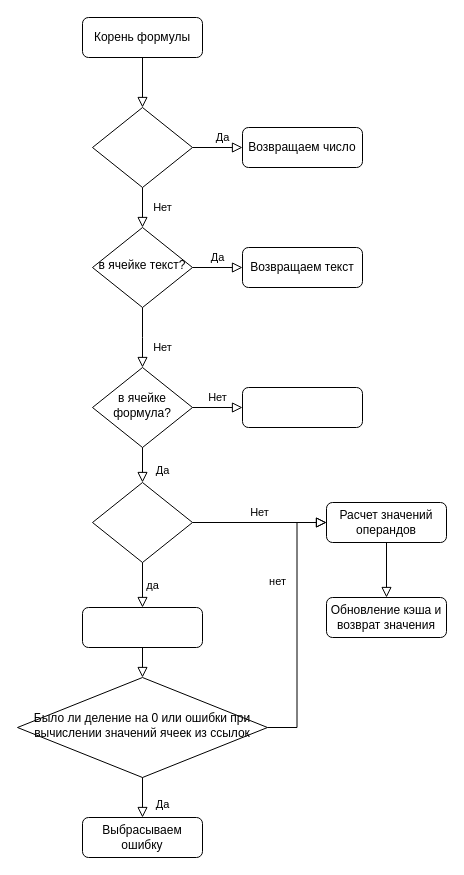
This 464x875 diagram has some shape labels left out. The shapes that lost their labels are listed below. From the top down, each one's centre as x and y in pixels, then its label:
At point (142, 147): "в ячейке число?".
At point (302, 407): "Ошибка вычисления".
At point (142, 522): "В формуле есть ссылки?".
At point (142, 627): "Получение значений из ячеек из ссылок".
